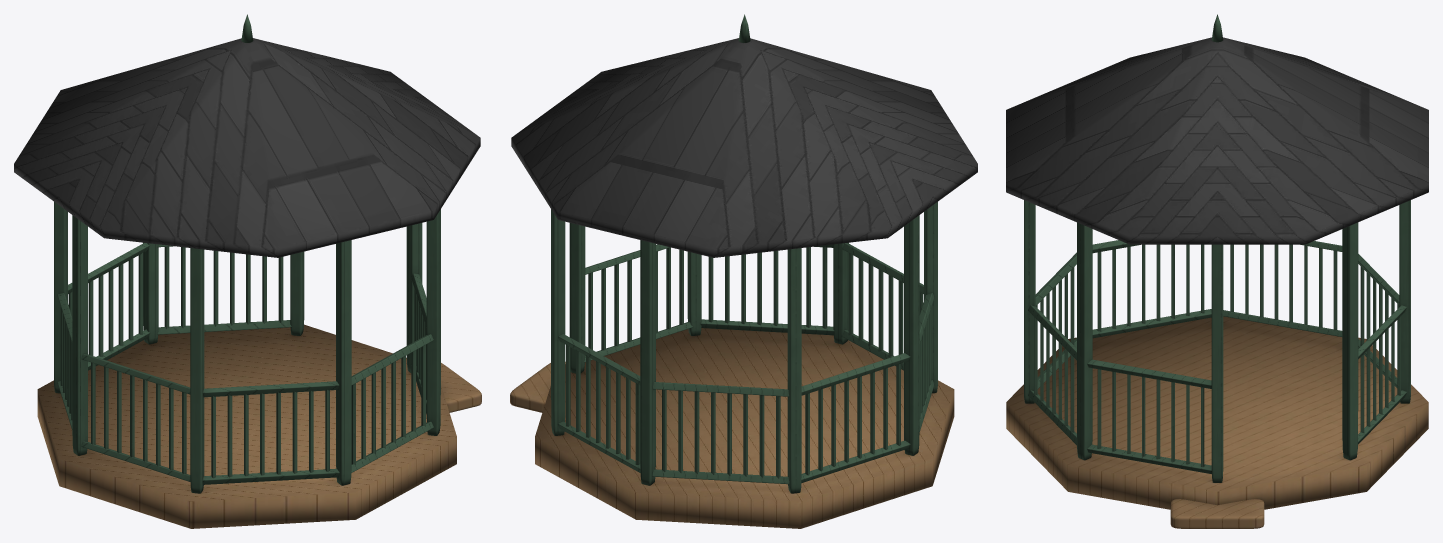
File: green-octagonal.glb
3 renders of one model, left to right at view 1: azimuth 30°, elevation 25°; view 2: azimuth 150°, elevation 25°; view 3: azimuth 270°, elevation 25°, orthographic. The views are drawn at different scales.
Parts seen in each view (by area): view 1: roof_shingle, deck_wood, paint_primary_gazebo; view 2: roof_shingle, paint_primary_gazebo, deck_wood; view 3: roof_shingle, deck_wood, paint_primary_gazebo.
Boxes of the visible parts, x1,y1,x2,y2 form: roof_shingle: (14, 38, 480, 257); deck_wood: (37, 324, 481, 528); paint_primary_gazebo: (54, 14, 440, 493); roof_shingle: (511, 38, 977, 257); paint_primary_gazebo: (551, 14, 937, 493); deck_wood: (510, 328, 954, 528); roof_shingle: (1006, 37, 1428, 244); deck_wood: (1006, 316, 1428, 528); paint_primary_gazebo: (1024, 14, 1410, 482).
Size of the model in its own units: 3.84 by 3.9 by 3.6.
Materials: 3 (3 with a texture image).
